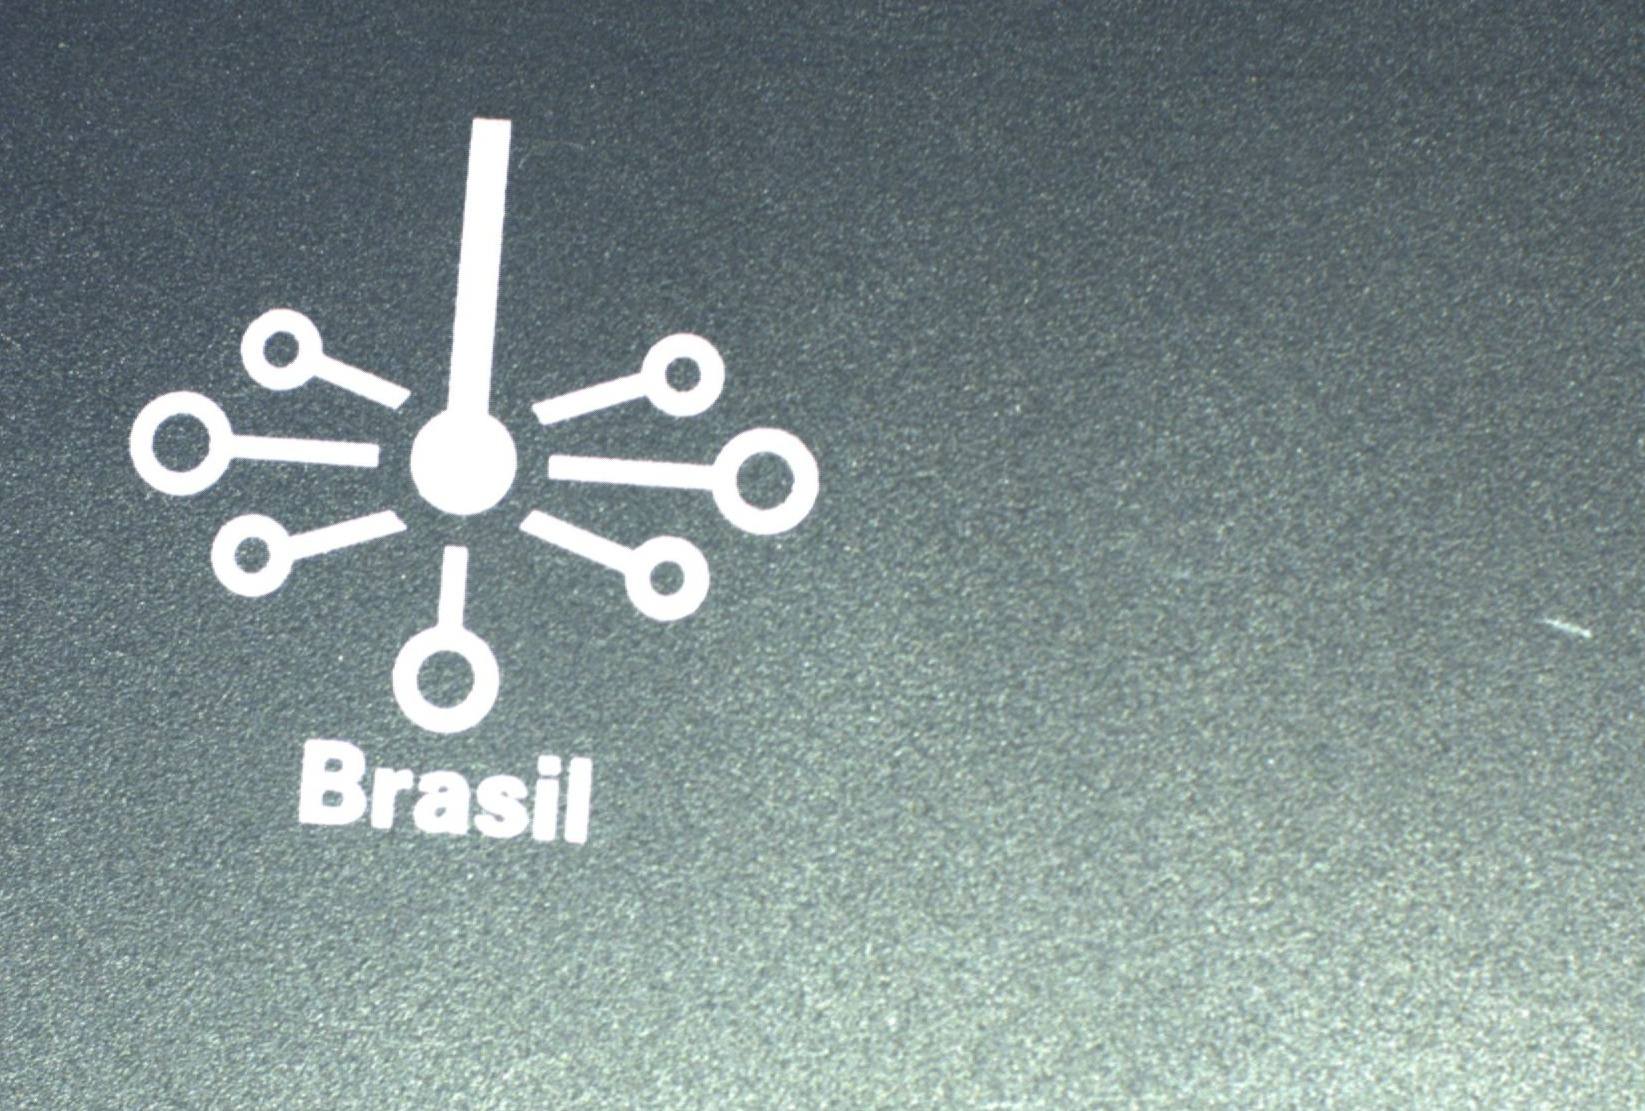BO_Brsail: (131, 112, 842, 848)
